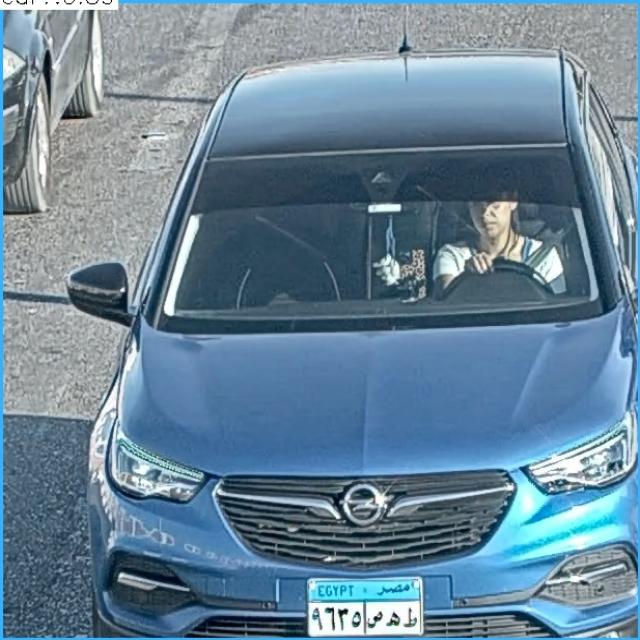windshield: (157, 148, 602, 321)
